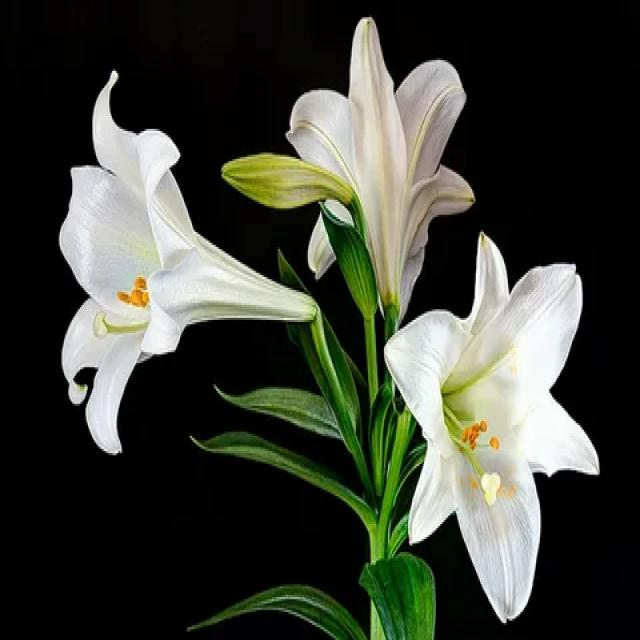lily: (383, 213, 619, 632), (52, 37, 234, 506)
